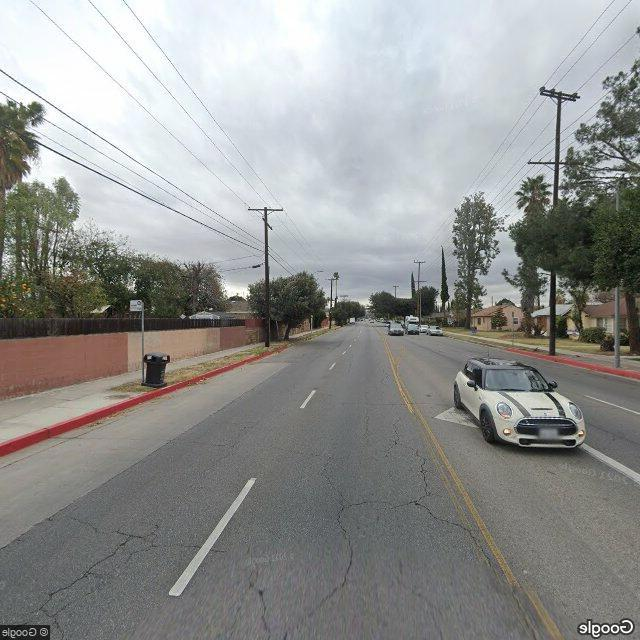pothole: (283, 405, 481, 636), (45, 507, 188, 611)
